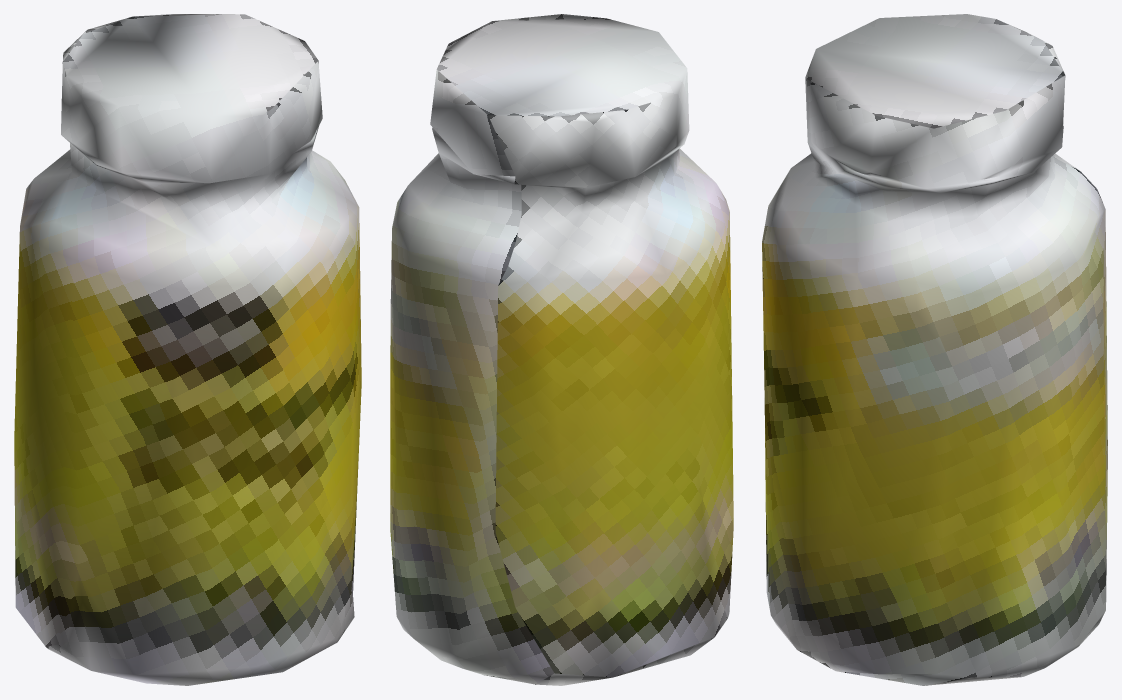
File: Jarrow_Formulas_Glucosamine_Hci_Mega_1000_100_ct-low.glb
3 views of the same model, side by side, from view 1: azimuth 30°, elevation 25°; view 2: azimuth 150°, elevation 25°; view 3: azimuth 270°, elevation 25° (orthographic).
Parts seen in each view (by area): view 1: Jarrow_Formulas_Glucosamine_Hci_Mega_1000_100_ct; view 2: Jarrow_Formulas_Glucosamine_Hci_Mega_1000_100_ct; view 3: Jarrow_Formulas_Glucosamine_Hci_Mega_1000_100_ct.
Boxes of the visible parts, x1,y1,x2,y2 form: Jarrow_Formulas_Glucosamine_Hci_Mega_1000_100_ct: [14, 14, 361, 685]; Jarrow_Formulas_Glucosamine_Hci_Mega_1000_100_ct: [390, 14, 733, 685]; Jarrow_Formulas_Glucosamine_Hci_Mega_1000_100_ct: [762, 14, 1107, 685].
Bounding box in the file's own units: 0.0612 × 0.11 × 0.0616.
1 material, 1 textured.
